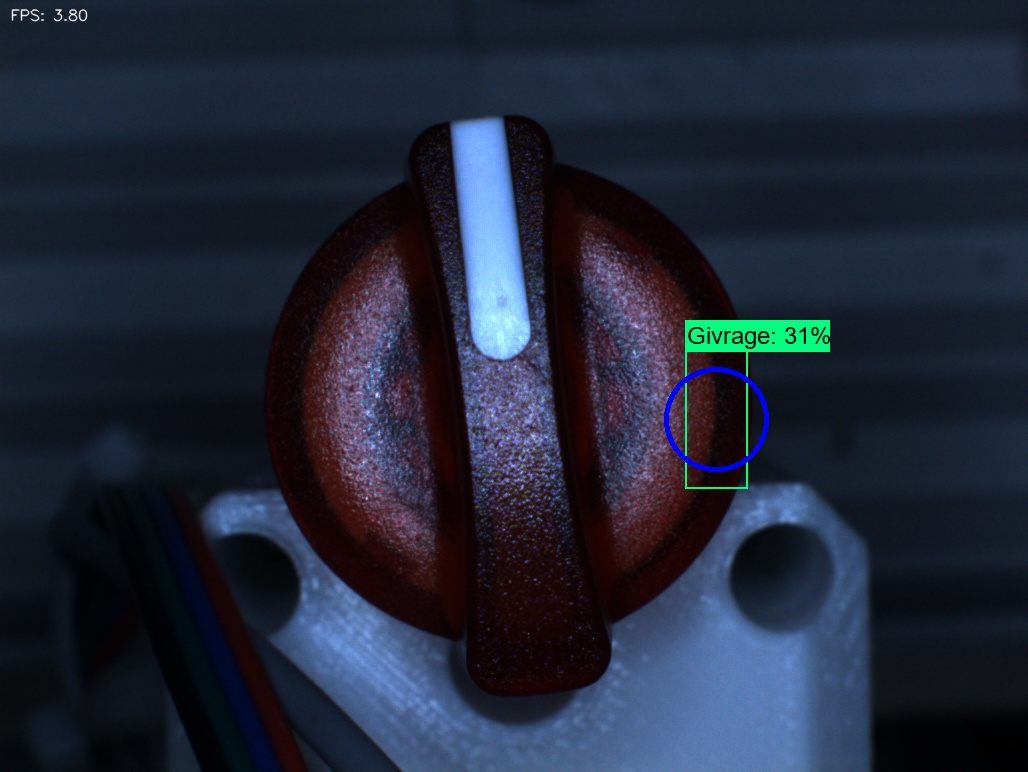PointNoir: (465, 263, 546, 338)
